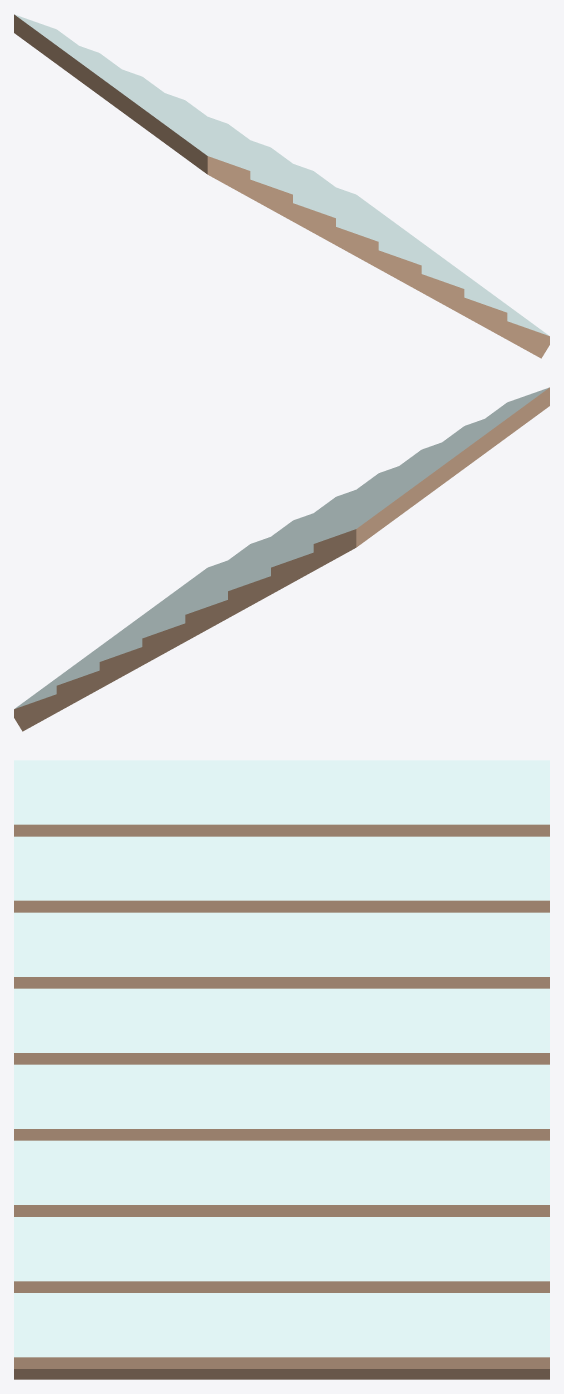
Rendered from cabinRoof.glb.
3 renders of one model, top to bottom at view 1: azimuth 30°, elevation 25°; view 2: azimuth 150°, elevation 25°; view 3: azimuth 270°, elevation 25°, orthographic. The views are drawn at different scales.
Visible parts, largest first — view 1: cabinRoof(Clone); view 2: cabinRoof(Clone); view 3: cabinRoof(Clone).
Boxes of the visible parts, <box> form: cabinRoof(Clone): <box>14,14,549,358</box>; cabinRoof(Clone): <box>14,387,549,731</box>; cabinRoof(Clone): <box>14,760,549,1379</box>.
Bounding box in the file's own units: 1.21 × 0.9559 × 1.18.
